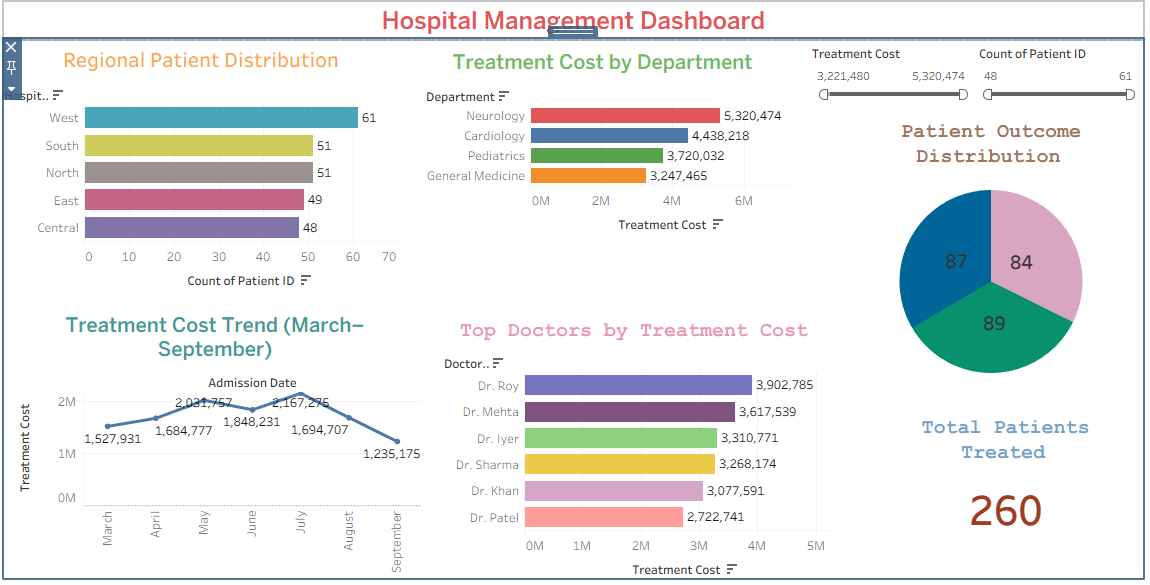

What the dashboard file says about the page in this screenshot:
{"tool":"tableau","page":{"name":"Q8. Dashboard","canvas":[1000,1000],"units":"permille","ordinal":0},"visuals":[{"type":"title","box":[6.9,13.5,986.1,62.5]},{"type":"worksheet","title":"Q3.","mark":"Bar","rows":["Hospital_Region"],"cols":["Patient_ID"],"box":[6.9,79.4,341.1,430.7]},{"type":"filter","title":"Q4.","param":"[federated.06flqap0pn9ky016f9zpc10whplp].[sum:Treatment_Cost:qk]","box":[706.5,86.2,138.5,103]},{"type":"filter","title":"Q3.","param":"[federated.06flqap0pn9ky016f9zpc10whplp].[cnt:Patient_ID:qk]","box":[851.1,86.2,138.5,103]},{"type":"worksheet","title":"Q4.","mark":"Automatic","rows":["Department"],"cols":["Treatment_Cost"],"box":[358.4,87.8,333.3,442.6]},{"type":"worksheet","title":"Q6.","mark":"Pie","box":[718.6,206.1,285.7,454.4]},{"type":"worksheet","title":"Q5.","mark":"Automatic","rows":["Treatment_Cost"],"cols":["Admission_Date"],"box":[11.3,532.1,356.7,467.9]},{"type":"worksheet","title":"Q7. A","mark":"Automatic","rows":["Doctor_Name"],"cols":["Treatment_Cost"],"box":[387.9,538.9,333.3,459.5]},{"type":"worksheet","title":"Q7. B","mark":"Automatic","box":[780.1,706.1,187.9,221.3]}]}

Visuals, with their boxes on the dashboard's canvas, which has no fixed pixel size, in thousandths of its width and height (x1, y1, x2, y2). These are canvas units, not pixel positions in the 1150x585 screenshot, which may show the page scaled, cropped or inside an application window:
title: 7/14/993/76
"Q3." worksheet (Bar marks): 7/79/348/510
"Q4." filter: 706/86/845/189
"Q3." filter: 851/86/990/189
"Q4." worksheet: 358/88/692/530
"Q6." worksheet (Pie marks): 719/206/1004/660
"Q5." worksheet: 11/532/368/1000
"Q7. A" worksheet: 388/539/721/998
"Q7. B" worksheet: 780/706/968/927
